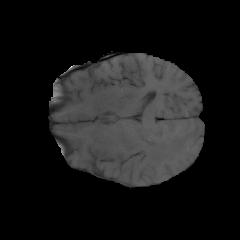glioma: (125, 125, 195, 168)
